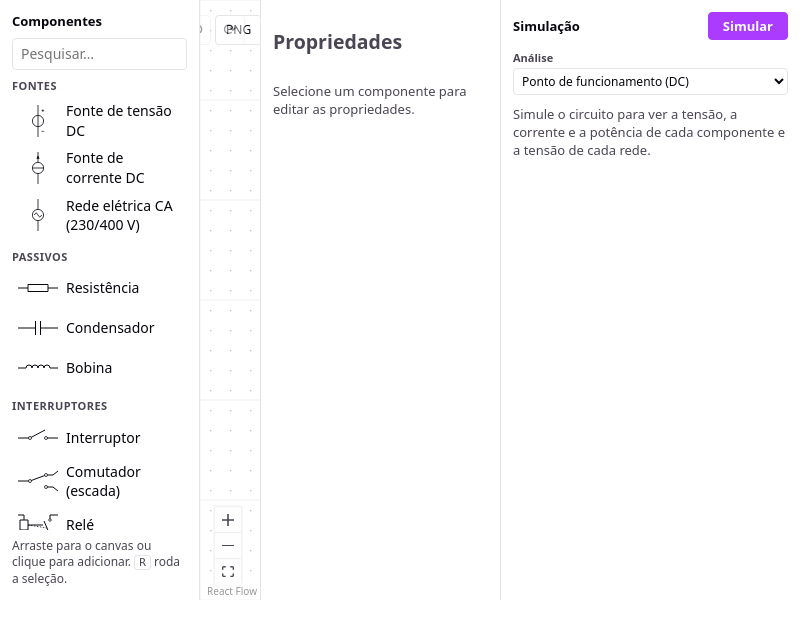
Test: EditorCanvas — paleta e rotação › a pesquisa filtra a paleta
The width and height of the screenshot is (805, 617).
Type "lampada" into the search field named "Pesquisar componentes" at (100, 54), box [12,38,187,70]
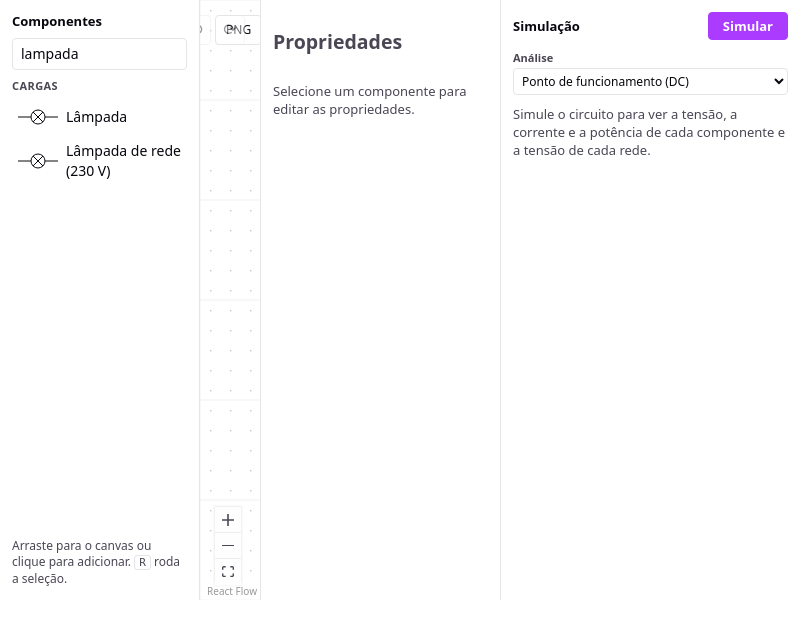
Now the button "Adicionar Resistência" is gone
Replace the text in the search field named "Pesquisar componentes" with "xyz" at (100, 54), box [12,38,187,70]
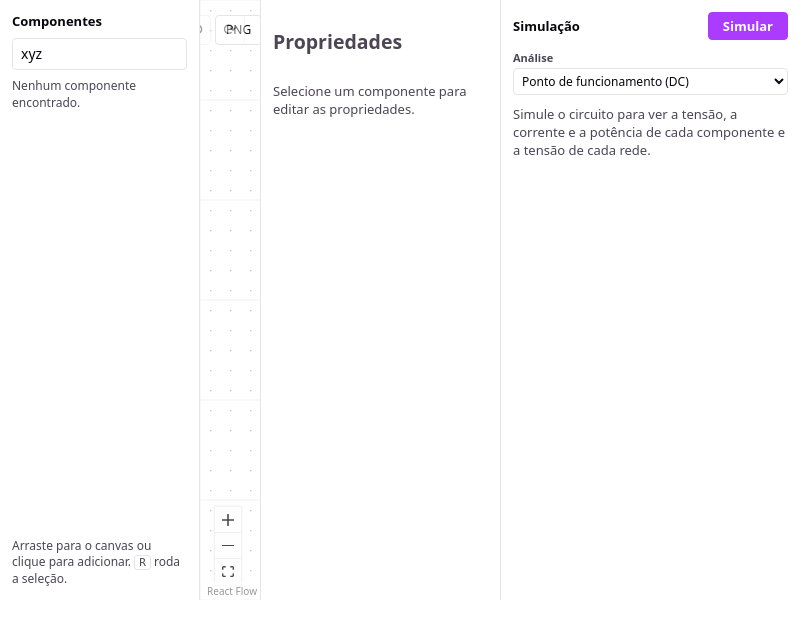
Now the text "Nenhum componente encontrado." is shown, box [12,78,136,111]
